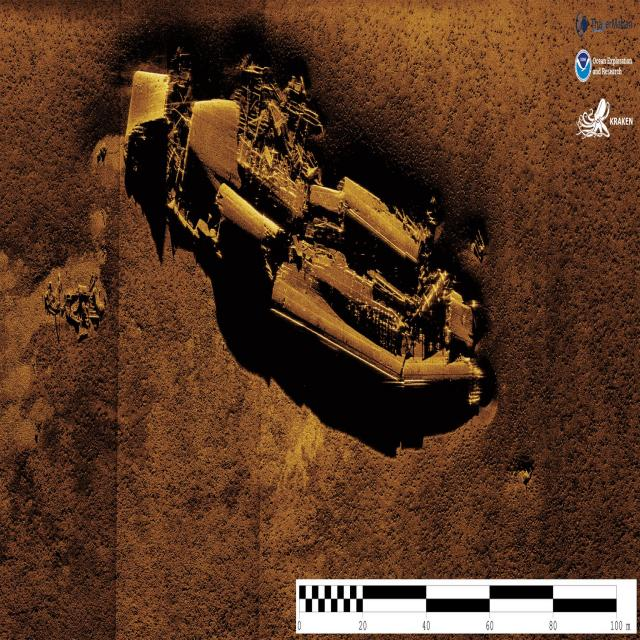ship: (124, 45, 498, 452)
